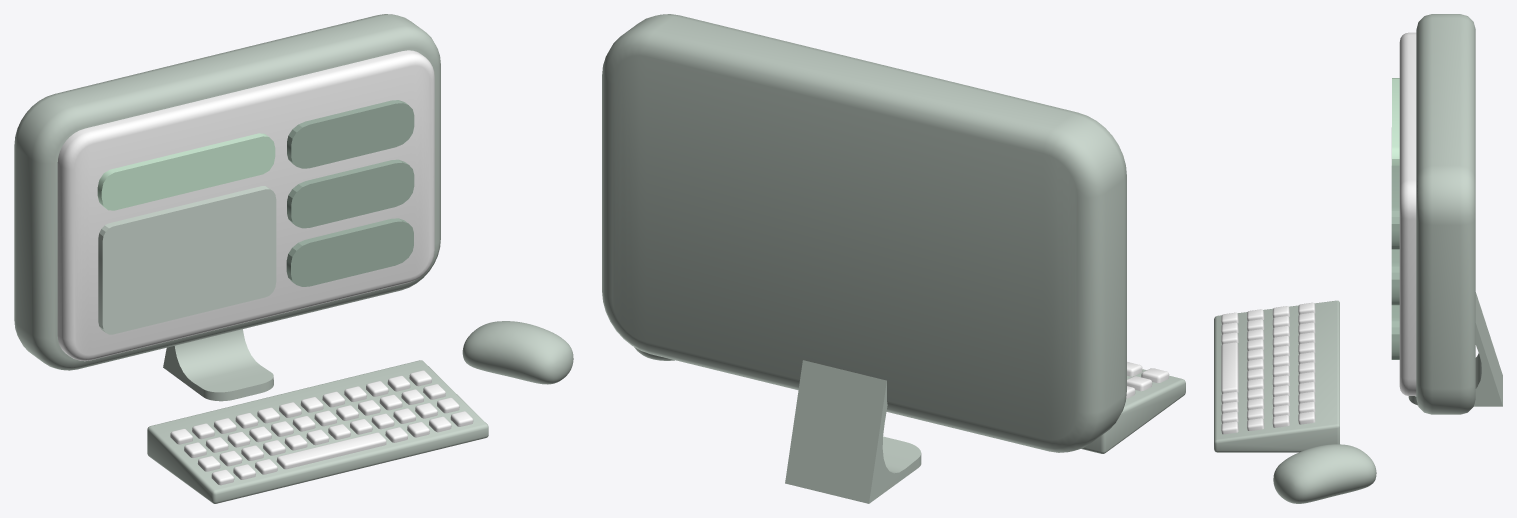
File: imac.glb
3 renders of one model, left to right at view 1: azimuth 30°, elevation 25°; view 2: azimuth 150°, elevation 25°; view 3: azimuth 270°, elevation 25°, orthographic. The views are drawn at different scales.
Visible parts, largest first — view 1: Keys_Keys_0, Board_Base_0, Plane.003_Material_0, Plane.004_Material_0, Plane.002__0; view 2: Board_Base_0, Keys_Keys_0; view 3: Board_Base_0, Keys_Keys_0, Plane.004_Material_0, Plane.002__0.
Boxes of the visible parts, x1,y1,x2,y2 form: Keys_Keys_0: (57,50,473,485); Board_Base_0: (14,14,573,503); Plane.003_Material_0: (98,186,276,334); Plane.004_Material_0: (286,100,414,286); Plane.002__0: (97,133,275,210); Board_Base_0: (602,14,1185,503); Keys_Keys_0: (1126,362,1169,398); Board_Base_0: (1214,14,1502,503); Keys_Keys_0: (1221,32,1416,434); Plane.004_Material_0: (1391,165,1399,359); Plane.002__0: (1392,78,1399,165).
Size of the model in its own units: 45.14 by 29.42 by 25.74.
